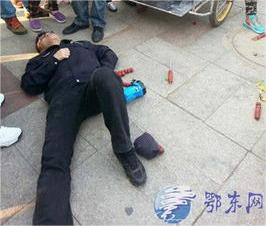down: (11, 26, 159, 226)
